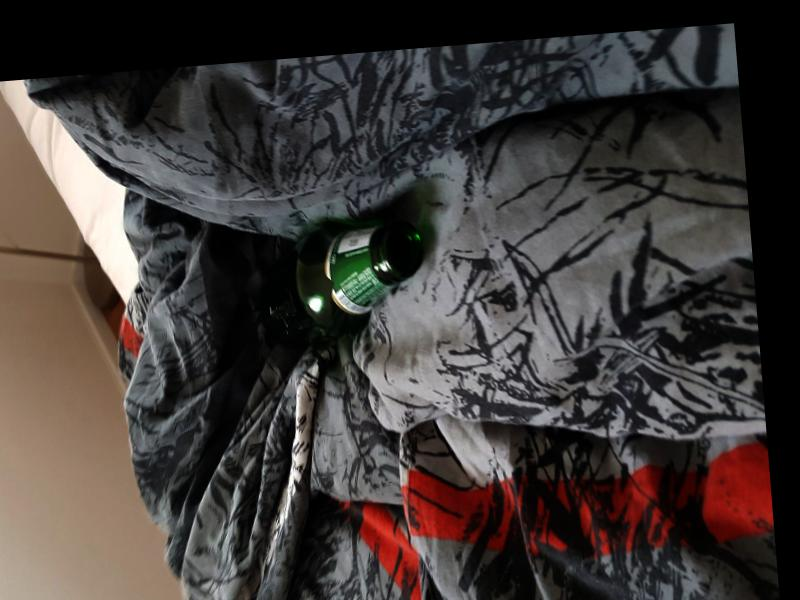Beer: (252, 213, 430, 350)
